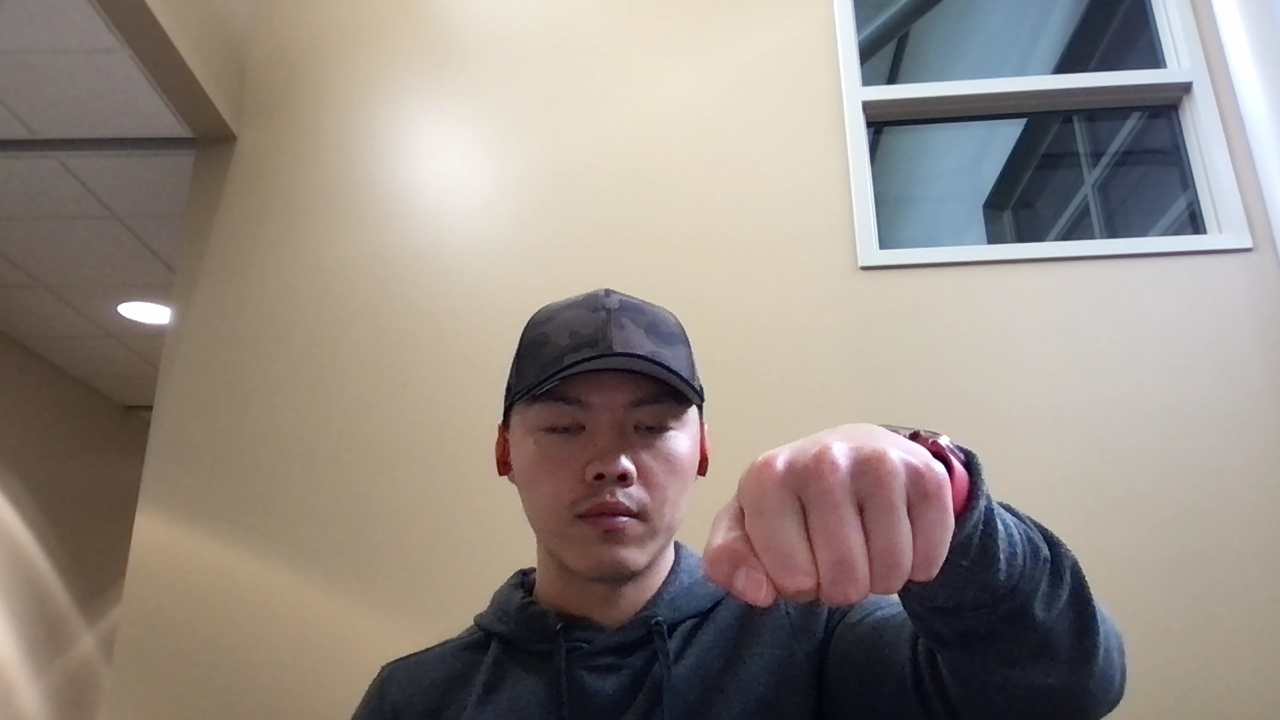Yes: (700, 434, 962, 612)
